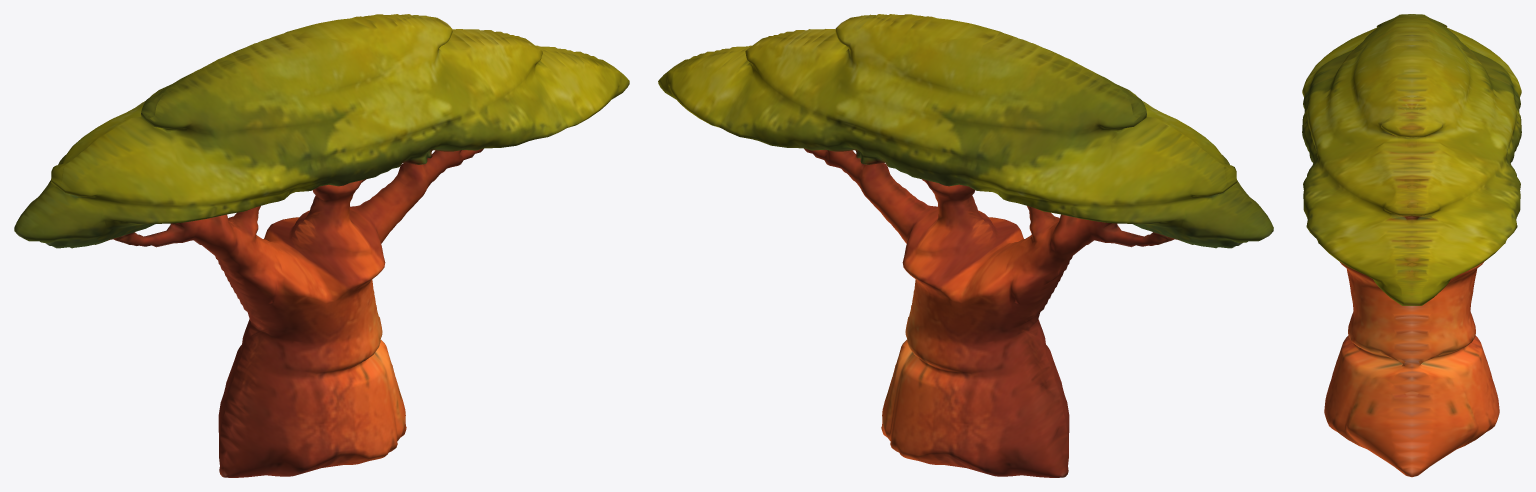
The model's file is 03_baobab_trees_r01_c00.glb.
3 renders of one model, left to right at view 1: azimuth 30°, elevation 25°; view 2: azimuth 150°, elevation 25°; view 3: azimuth 270°, elevation 25°, orthographic. The views are drawn at different scales.
Parts seen in each view (by area): view 1: 03_baobab_trees_r01_c00; view 2: 03_baobab_trees_r01_c00; view 3: 03_baobab_trees_r01_c00.
Boxes of the visible parts, left/top/right/bottom form: 03_baobab_trees_r01_c00: left=14, top=14, right=629, bottom=477; 03_baobab_trees_r01_c00: left=658, top=14, right=1273, bottom=477; 03_baobab_trees_r01_c00: left=1302, top=14, right=1521, bottom=477.
Size of the model in its own units: 4.07 by 2.7 by 1.39.
Materials: 1 (1 with a texture image).
